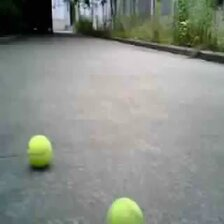tennis: (105, 198, 143, 224), (28, 135, 51, 167)
